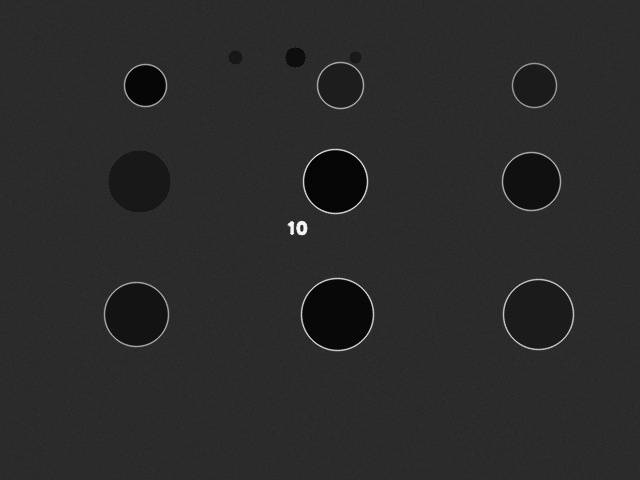hole: (301, 278, 373, 350), (503, 279, 573, 349), (303, 149, 367, 213), (104, 282, 168, 346), (108, 150, 170, 212), (502, 152, 560, 210), (317, 62, 363, 108), (512, 63, 556, 107), (124, 64, 166, 106), (285, 47, 305, 67), (228, 50, 242, 64), (349, 51, 361, 63)
